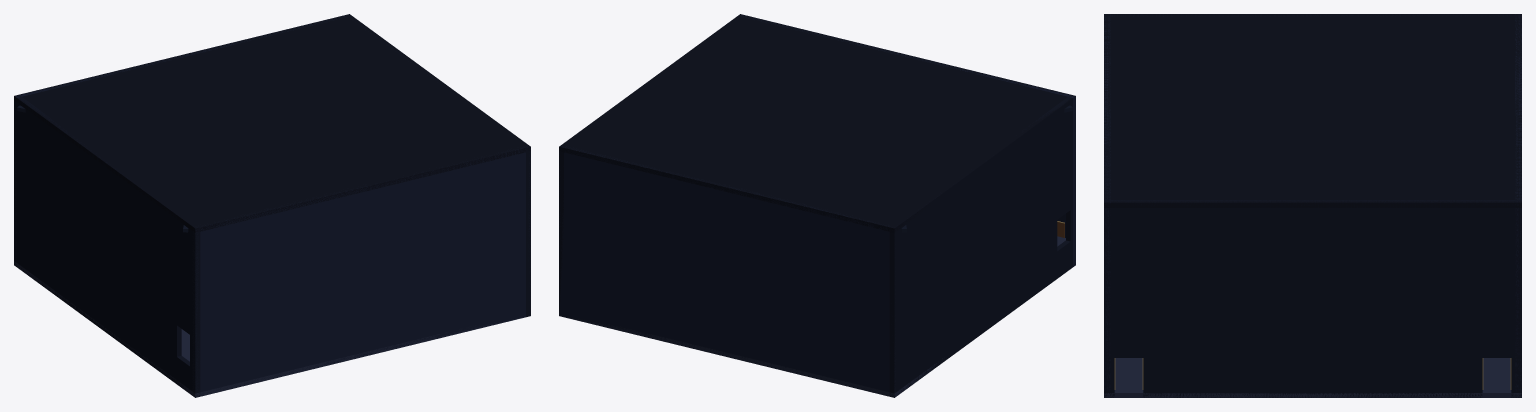
The model's file is hallCurve.glb.
3 renders of one model, left to right at view 1: azimuth 30°, elevation 25°; view 2: azimuth 150°, elevation 25°; view 3: azimuth 270°, elevation 25°, orthographic. The views are drawn at different scales.
Parts seen in each view (by area): view 1: hallCurve; view 2: hallCurve; view 3: hallCurve.
Boxes of the visible parts, bbox=[...] form: hallCurve: bbox=[14, 14, 530, 397]; hallCurve: bbox=[559, 14, 1075, 397]; hallCurve: bbox=[1104, 14, 1521, 397].
Bounding box in the file's own units: 28.17 × 13.41 × 26.
